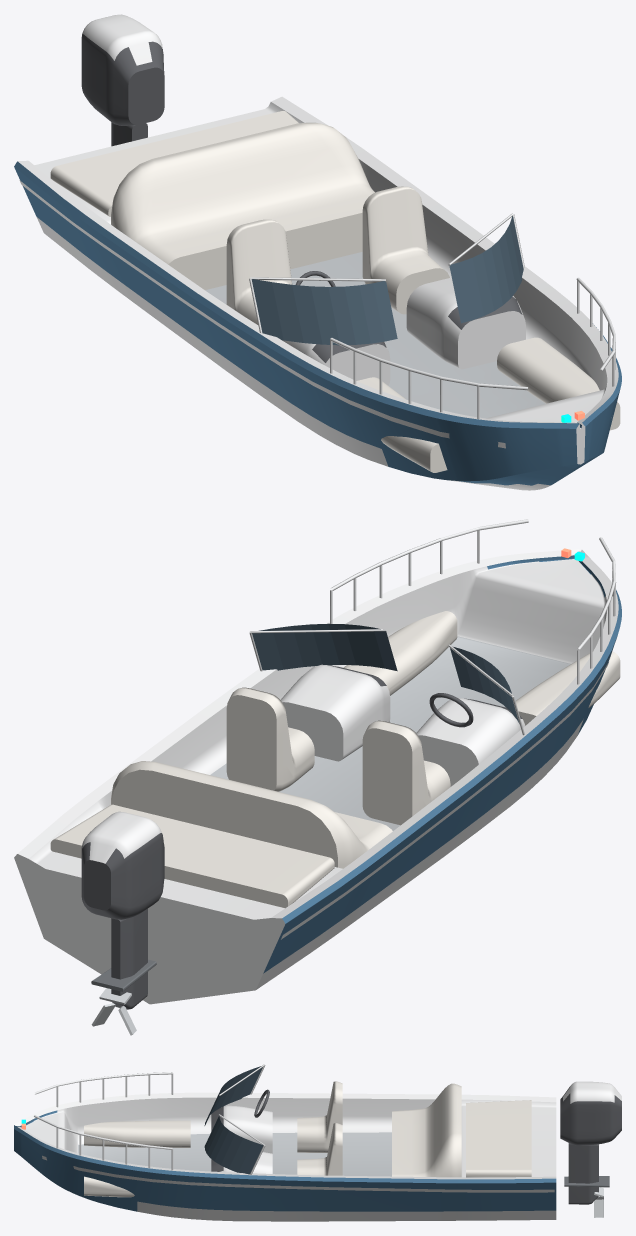
The model's file is boat-speed.glb.
The picture shows the model from 3 angles, top to bottom: view 1: azimuth 30°, elevation 25°; view 2: azimuth 150°, elevation 25°; view 3: azimuth 270°, elevation 25°; orthographic projection. The views are drawn at different scales.
Visible parts, largest first — view 1: boat-speed; view 2: boat-speed; view 3: boat-speed.
Part boxes in pixels (box(x1,y1,x2,y2)): boat-speed: box(14, 14, 621, 490); boat-speed: box(14, 519, 621, 1035); boat-speed: box(14, 1064, 621, 1221).
Bounding box in the file's own units: 2.5 × 1.72 × 7.4.
